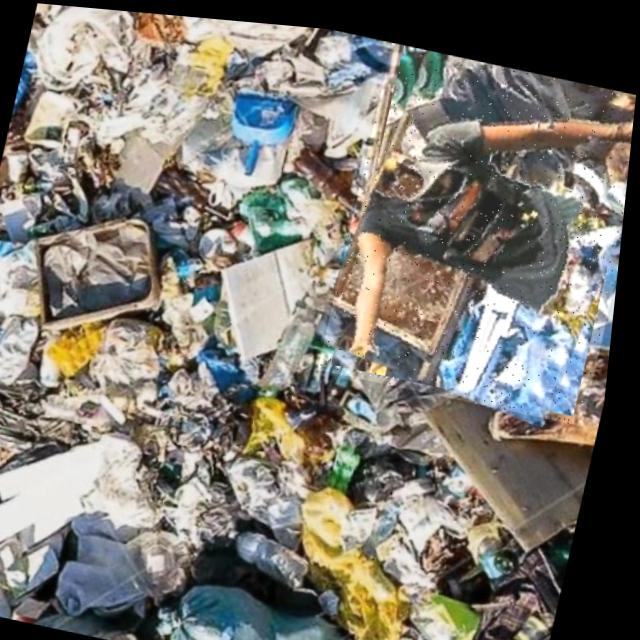Person in Rubble: (322, 31, 640, 414)
